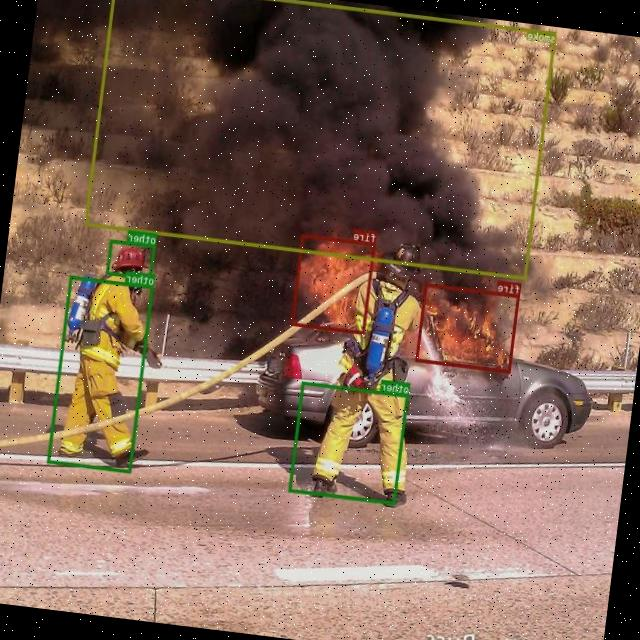fire: (415, 283, 520, 372), (291, 233, 376, 333)
smoke: (84, 0, 557, 278)
